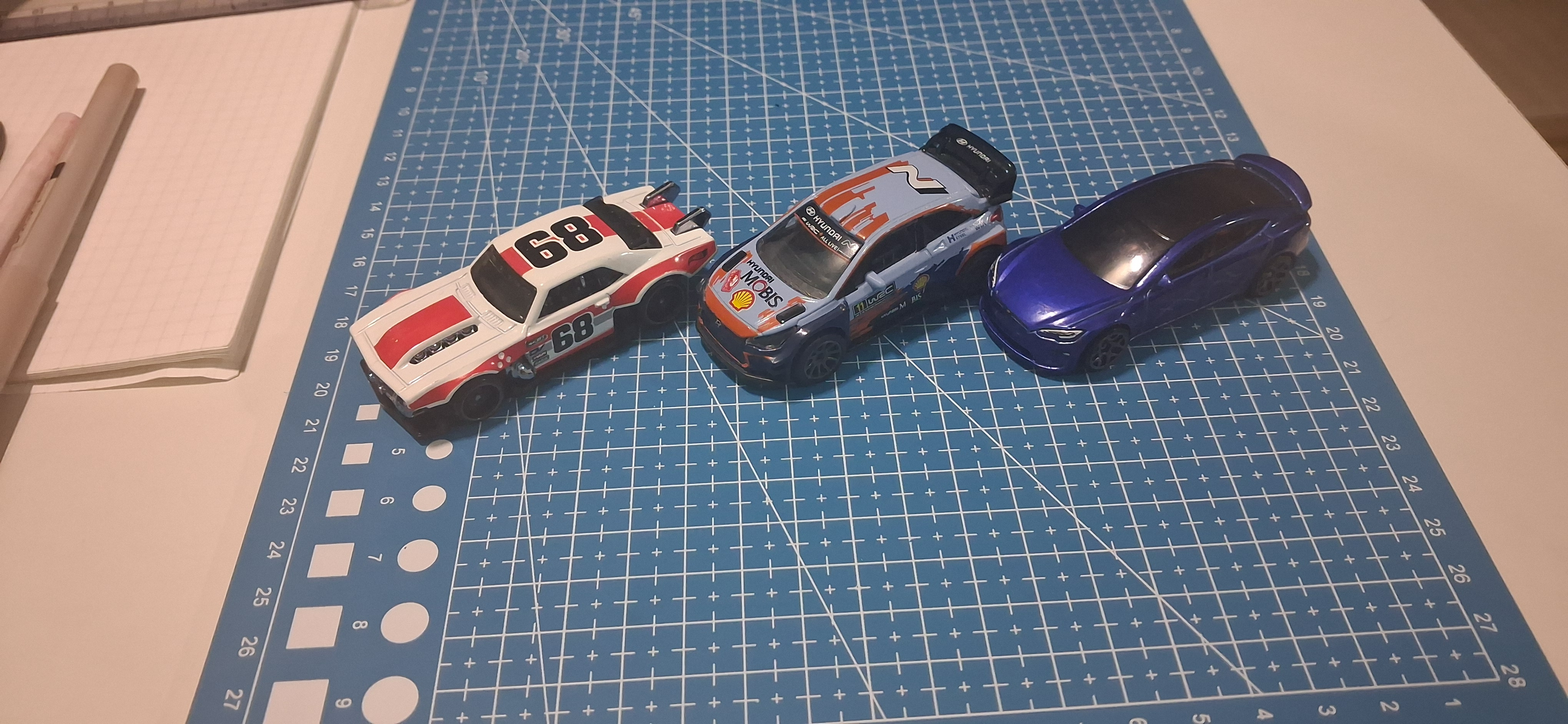Camaro: (327, 135, 718, 464)
Hyundai_I20_WRC: (679, 82, 1021, 484)
Tesla_Model_S_Plaid: (975, 79, 1319, 466)
